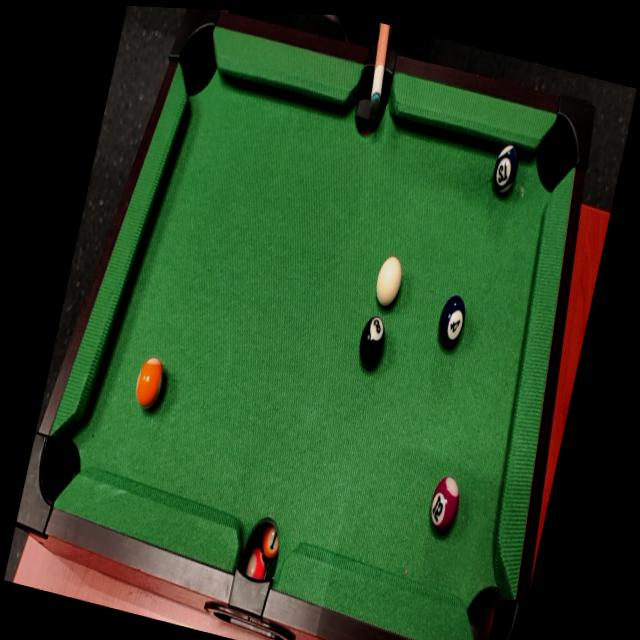cue ball: (370, 250, 408, 312)
other: (424, 471, 466, 539), (351, 309, 391, 376), (130, 350, 170, 417), (487, 135, 525, 201), (433, 289, 471, 354)
